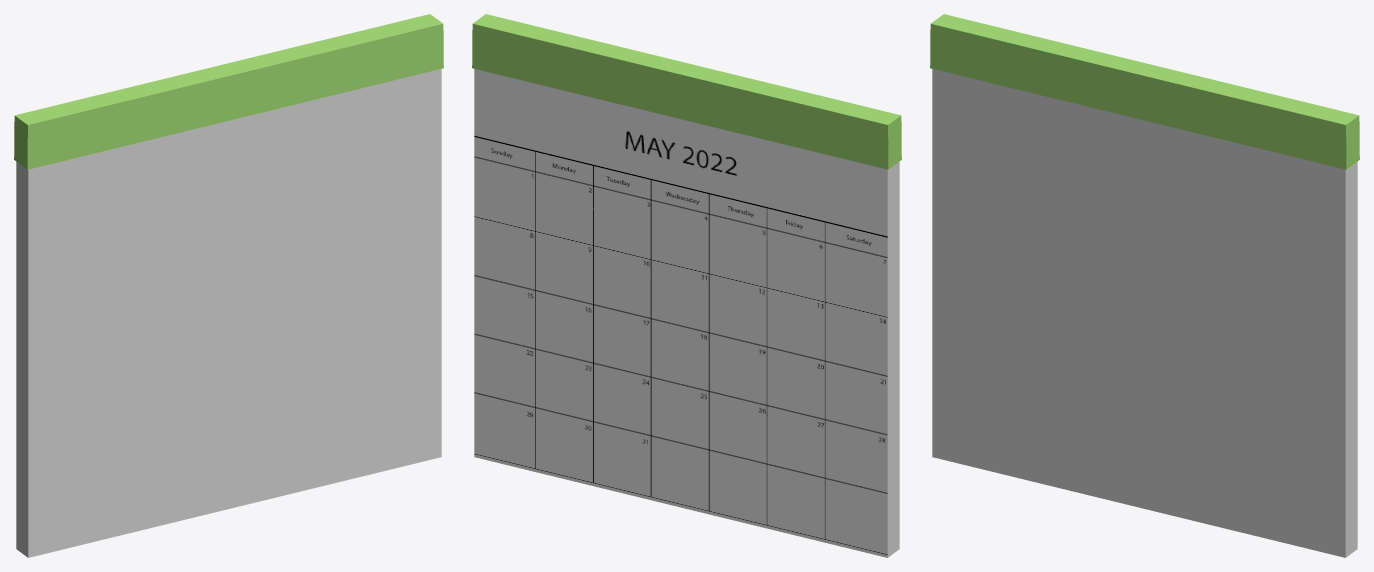
The model's file is Kalander.fbx.
3 renders of one model, left to right at view 1: azimuth 30°, elevation 25°; view 2: azimuth 150°, elevation 25°; view 3: azimuth 330°, elevation 25°, orthographic.
Visible parts, largest first — view 1: Cube; view 2: Cube; view 3: Cube.
Boxes of the visible parts, x1,y1,x2,y2 form: Cube: (14,14,443,557); Cube: (472,14,901,557); Cube: (930,14,1359,557).
Size of the model in its own units: 0.2014 by 0.0114 by 0.2006.
